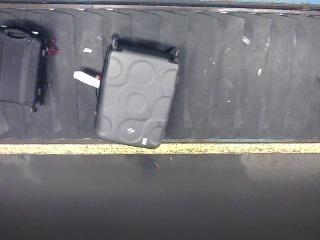Suitcase: (96, 34, 180, 147), (0, 25, 55, 112)
